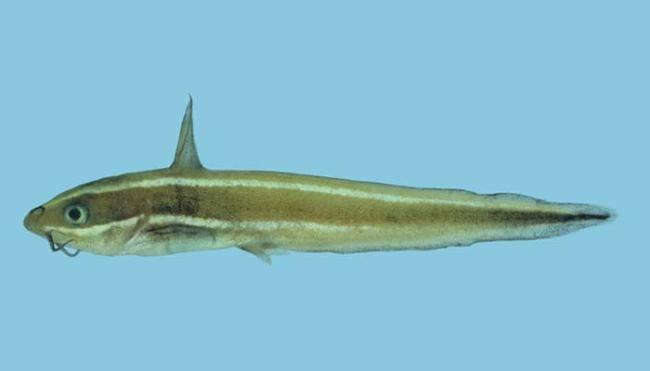fish: (24, 93, 620, 266)
